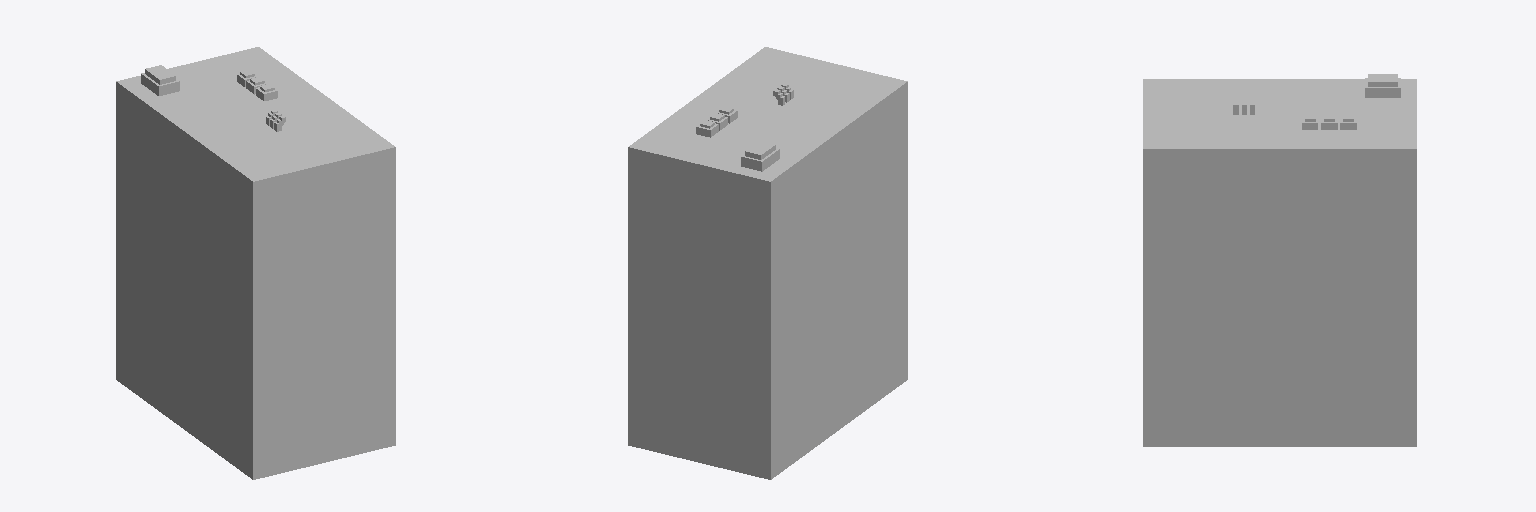
Rendered from Building3.obj.
3 views of the same model, side by side, from view 1: azimuth 30°, elevation 25°; view 2: azimuth 150°, elevation 25°; view 3: azimuth 270°, elevation 25° (orthographic).
Parts seen in each view (by area): view 1: object 1; view 2: object 1; view 3: object 1.
Boxes of the visible parts, x1=… form: object 1: x1=116, y1=47, x2=395, y2=479; object 1: x1=628, y1=47, x2=907, y2=479; object 1: x1=1143, y1=74, x2=1416, y2=446.
Bounding box in the file's own units: 6 × 12.6 × 10.